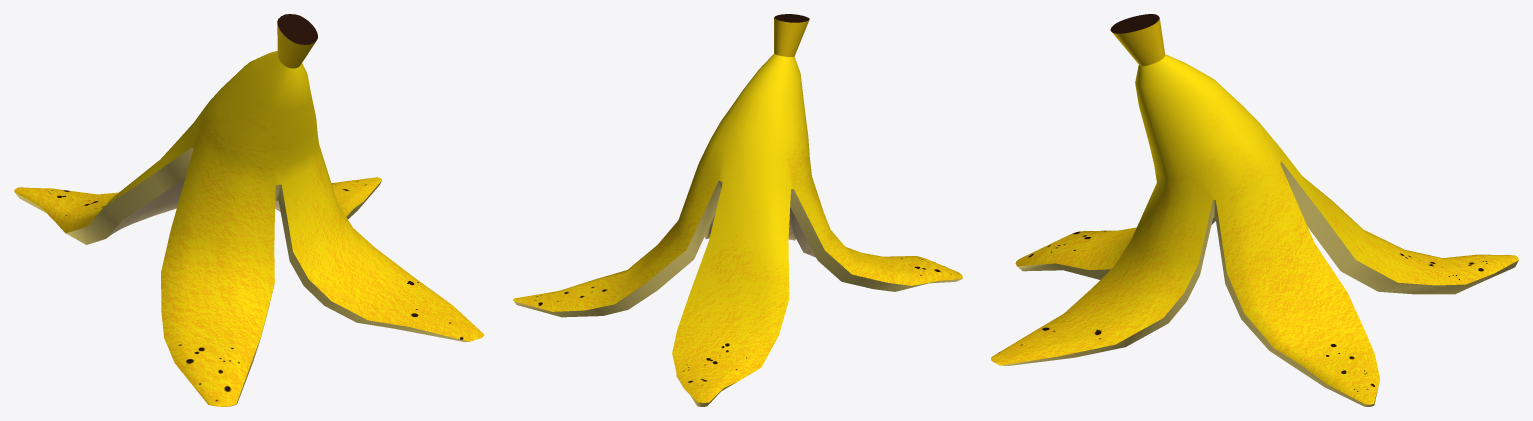
File: 바나나껍질.fbx
3 views of the same model, side by side, from view 1: azimuth 30°, elevation 25°; view 2: azimuth 150°, elevation 25°; view 3: azimuth 270°, elevation 25° (orthographic). The views are drawn at different scales.
Visible parts, largest first — view 1: 바나나; view 2: 바나나; view 3: 바나나.
Boxes of the visible parts, <box> form: 바나나: <box>14,14,484,406</box>; 바나나: <box>513,14,962,406</box>; 바나나: <box>991,14,1518,406</box>.
Bounding box in the file's own units: 1003 × 860 × 1326.
1 material, 1 textured.
